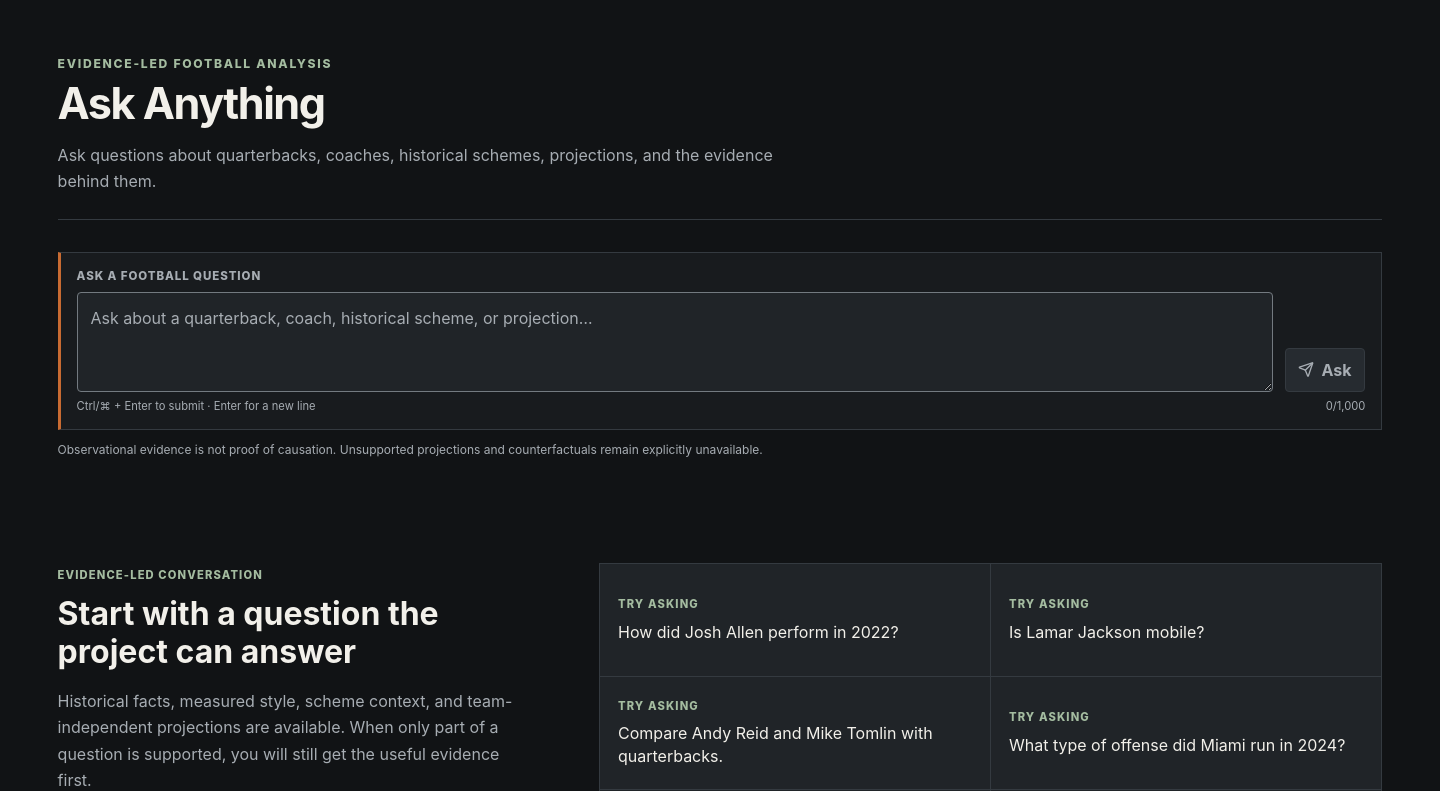
Scenario: Ask Anything v2 › resolves ambiguity with a canonical context choice and no visible opaque ID
Type "Allen performance 2022" into the text box labelled "Ask a football question".
click(675, 342); type("Allen performance 2022")  # box [77,292,1273,392]
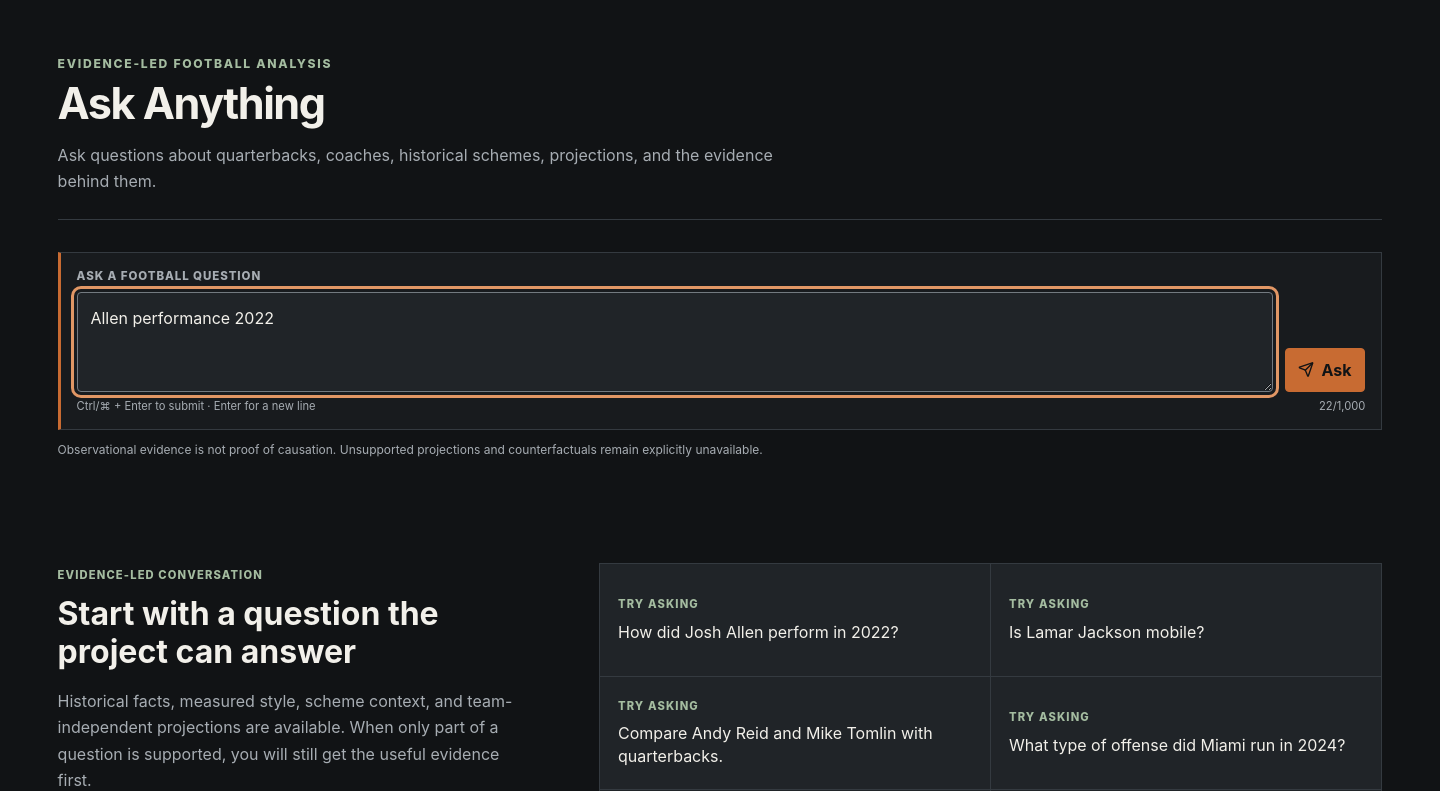
Click the button "Ask".
click(1325, 370)  # box [1285,348,1365,392]
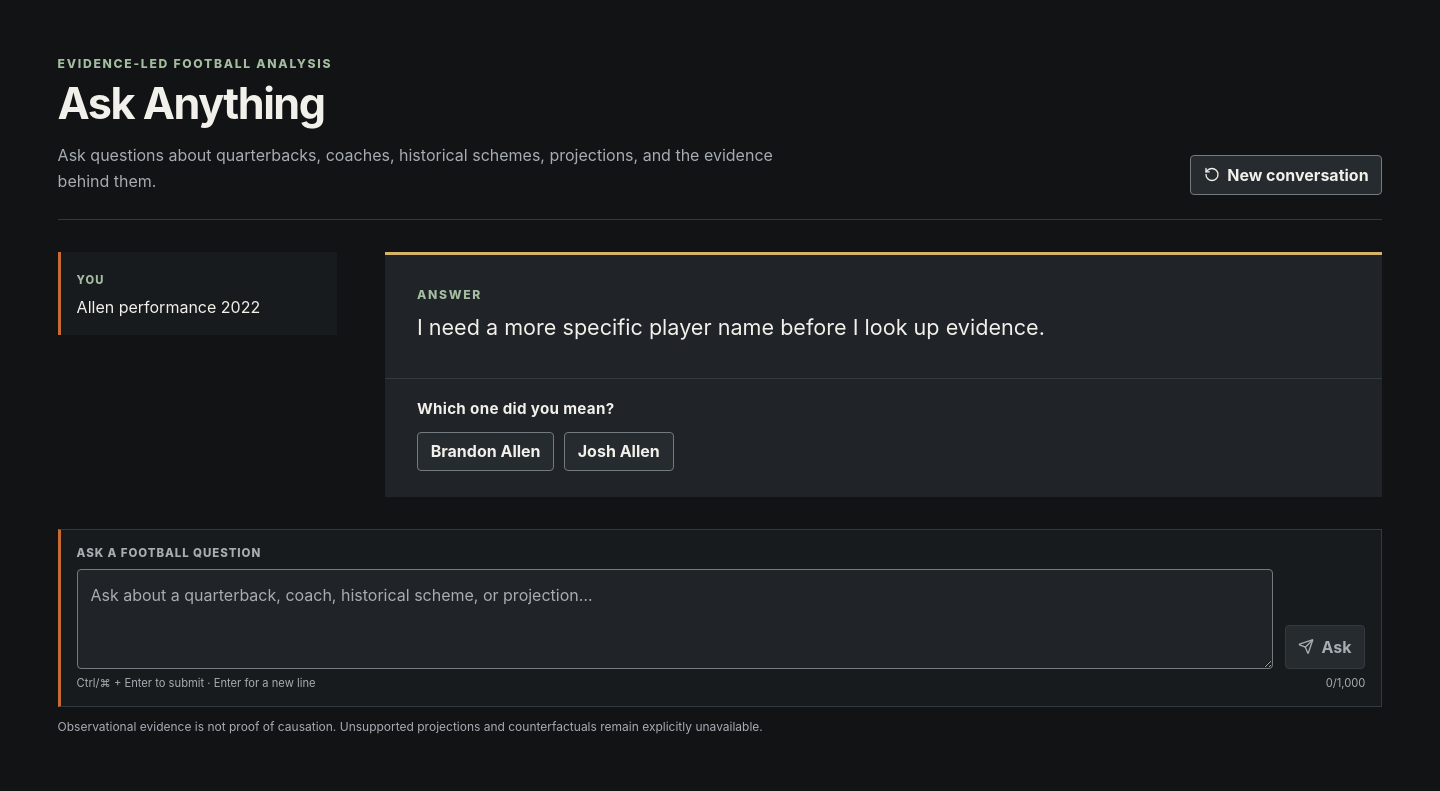
Click the button "Josh Allen".
click(619, 451)  # box [564,432,674,471]
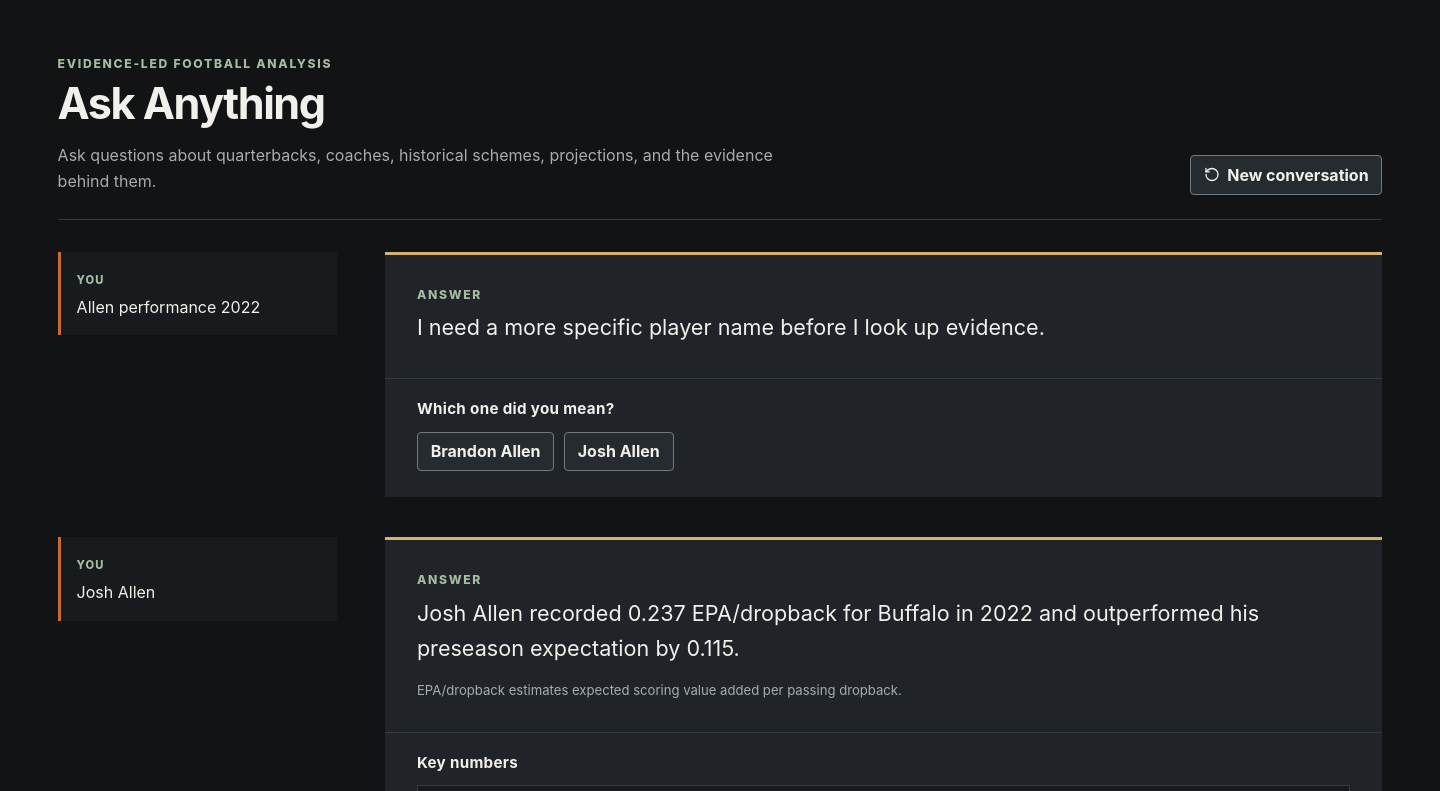
Check: the button "Josh Allen" is shown, box [564,432,674,471]
Check: the text "recorded 0.237 EPA/dropback" is shown, box [417,600,1259,661]
